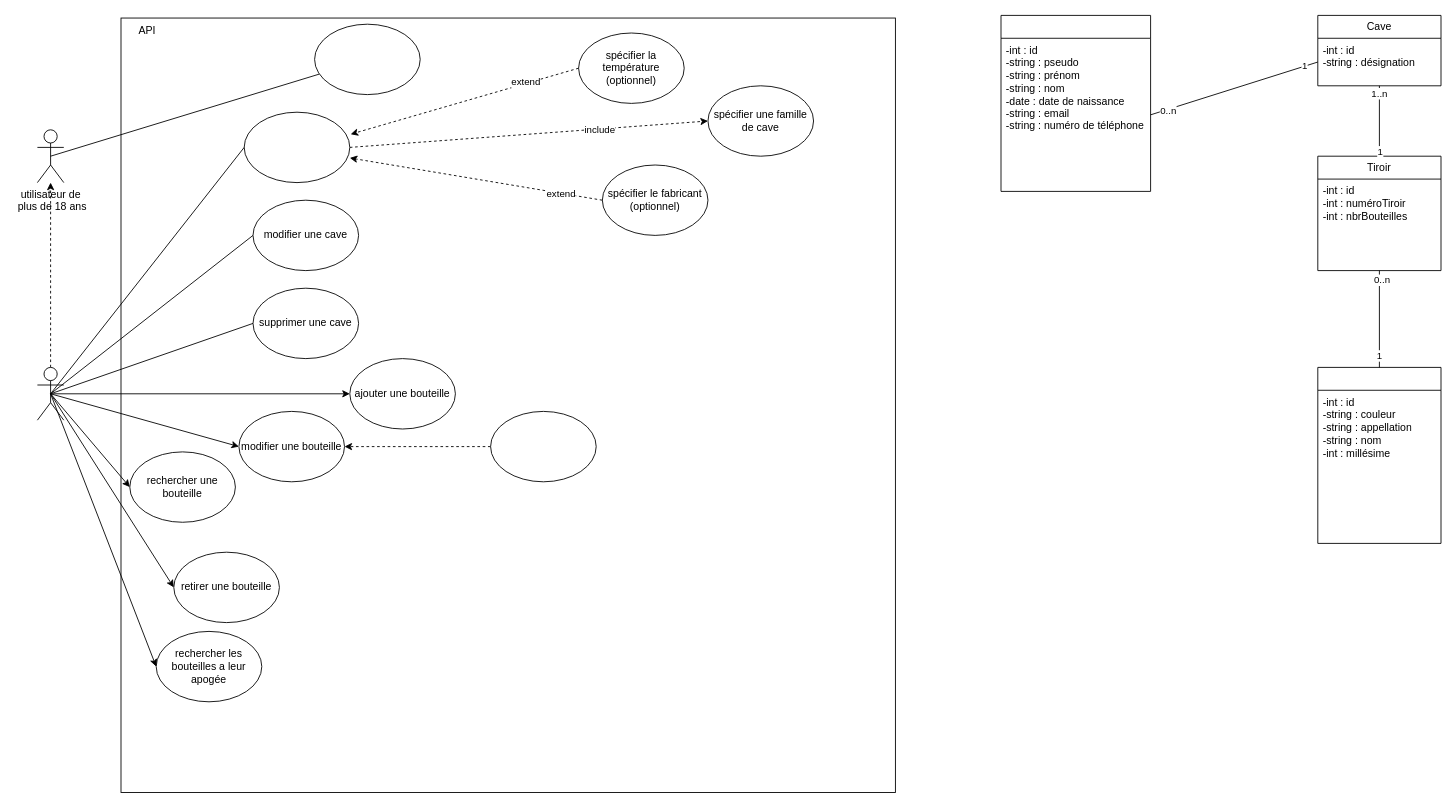
Some shapes in this 1456 by 808 pixel diagram are drawn without their labels. Here are the shapes that lost their labels. From the top down, the box of each, then its label:
(314, 23, 420, 95): créer un compte
(1000, 15, 1151, 191): Utilisateur
(243, 111, 350, 183): créer une ou plusieurs caves
(37, 367, 64, 420): utilisateur avec un compte
(490, 411, 596, 482): déplacer / réorganiser ses bouteilles
(1317, 367, 1441, 543): Bouteille
